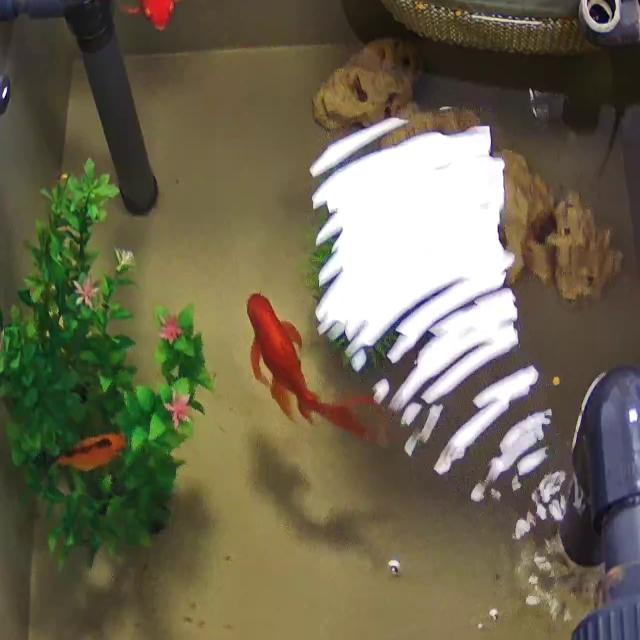fish: (242, 283, 363, 438), (51, 433, 128, 472), (124, 0, 180, 30)
